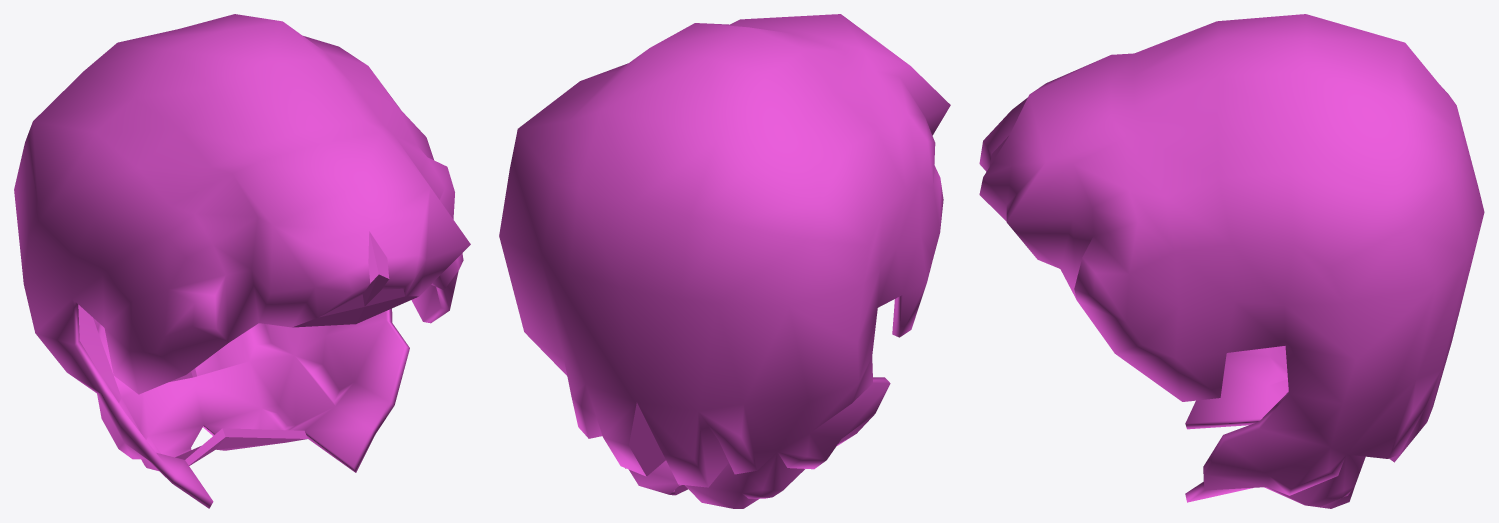
Rendered from character hair 14.fbx.
3 renders of one model, left to right at view 1: azimuth 30°, elevation 25°; view 2: azimuth 150°, elevation 25°; view 3: azimuth 270°, elevation 25°, orthographic. The views are drawn at different scales.
Parts seen in each view (by area): view 1: hair14; view 2: hair14; view 3: hair14.
Boxes of the visible parts, x1,y1,x2,y2 form: hair14: (14, 14, 470, 508); hair14: (499, 14, 950, 508); hair14: (979, 14, 1484, 508).
Size of the model in its own units: 0.4479 by 0.5273 by 0.5411.
